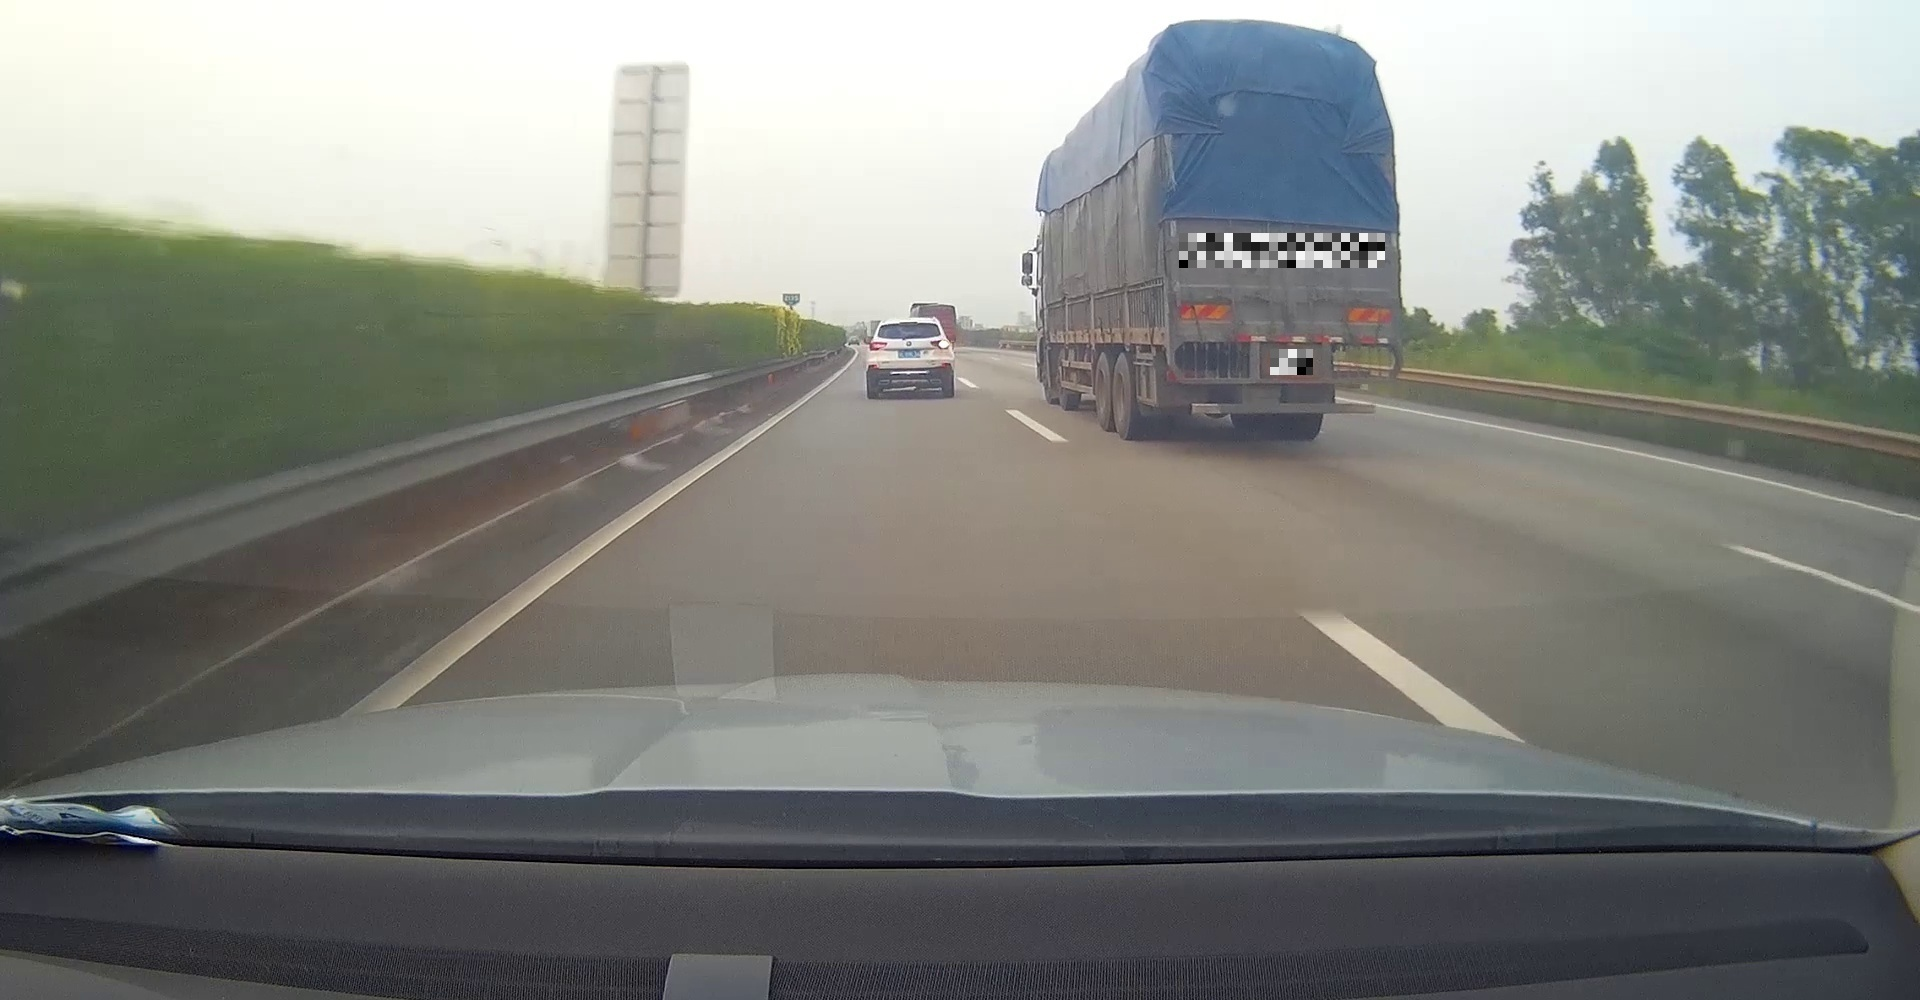L_light: (1167, 369, 1218, 385), (869, 341, 888, 352)
R_light: (1332, 369, 1370, 383), (930, 340, 950, 349)
T_light: (1267, 284, 1309, 302), (900, 322, 918, 326)
day-no: (1143, 18, 1402, 442)
day-right: (866, 317, 954, 398)
plate_1: (1178, 234, 1385, 268)
plate_2: (1270, 349, 1313, 376)
